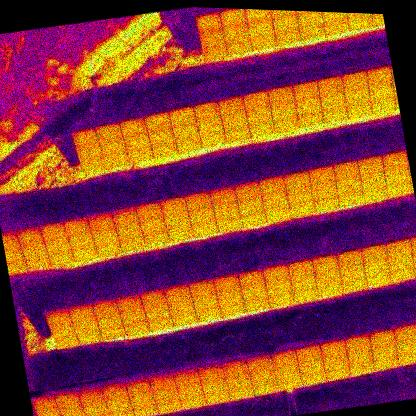Diode: (201, 41, 228, 62)
Hotspot: (160, 196, 188, 217), (249, 118, 276, 139), (316, 280, 344, 300), (150, 139, 178, 159), (336, 248, 363, 268), (321, 103, 348, 123), (216, 287, 244, 306), (362, 256, 390, 275), (370, 95, 398, 114), (88, 211, 114, 231), (365, 270, 392, 289), (338, 262, 365, 281), (237, 195, 264, 214), (199, 129, 226, 148), (345, 99, 372, 118), (319, 89, 346, 108), (348, 359, 376, 377), (144, 301, 170, 320), (144, 228, 170, 247), (92, 225, 118, 244), (148, 126, 174, 145), (26, 254, 51, 273), (172, 309, 198, 327), (244, 294, 270, 312), (80, 155, 106, 173), (176, 134, 202, 152), (124, 317, 148, 336), (196, 304, 221, 322), (201, 375, 226, 393), (296, 11, 323, 26)
Normal: (242, 90, 270, 111), (246, 15, 274, 36), (135, 200, 162, 221), (308, 165, 335, 186), (272, 113, 299, 134), (297, 108, 324, 129), (194, 101, 221, 122), (267, 85, 294, 106), (250, 30, 277, 51), (222, 20, 249, 41), (271, 10, 298, 31), (372, 352, 399, 373), (340, 274, 368, 294), (388, 264, 416, 284), (262, 262, 290, 282), (360, 242, 388, 262), (209, 185, 237, 205), (122, 130, 150, 150), (294, 94, 322, 114), (342, 84, 370, 104), (316, 75, 344, 95), (298, 21, 326, 41), (112, 205, 138, 226), (268, 288, 295, 308), (291, 284, 318, 304), (213, 272, 240, 292), (237, 267, 264, 287), (385, 237, 412, 257), (234, 180, 261, 200), (228, 382, 255, 402), (71, 128, 98, 148), (367, 80, 394, 100), (251, 377, 278, 397), (292, 80, 319, 100), (341, 70, 368, 90), (366, 66, 393, 86), (225, 36, 252, 56), (274, 26, 301, 46), (195, 12, 222, 32), (345, 332, 372, 352), (336, 188, 364, 207), (212, 200, 240, 219), (332, 161, 360, 180), (221, 111, 249, 130), (144, 112, 172, 131), (168, 107, 196, 126), (248, 365, 276, 384), (346, 346, 374, 365), (221, 356, 249, 375), (270, 349, 298, 368), (368, 328, 396, 347), (17, 226, 42, 247), (92, 297, 118, 317), (116, 292, 142, 312), (164, 282, 190, 302), (48, 247, 74, 267), (167, 222, 193, 242), (96, 122, 122, 142), (324, 16, 350, 36), (198, 26, 224, 46), (174, 367, 200, 387), (265, 276, 292, 295), (314, 266, 341, 285), (287, 258, 314, 277), (191, 218, 218, 237), (185, 192, 212, 211), (259, 176, 286, 195), (224, 124, 251, 143), (172, 120, 199, 139), (246, 105, 273, 124), (270, 99, 297, 118), (119, 117, 146, 136), (218, 97, 245, 116), (149, 372, 176, 391), (371, 341, 398, 360), (295, 343, 322, 362), (320, 338, 347, 357), (386, 252, 414, 270), (288, 199, 316, 217), (310, 180, 338, 198), (224, 370, 252, 388), (246, 353, 274, 371), (77, 327, 102, 347), (72, 243, 97, 263), (72, 315, 98, 334), (140, 288, 166, 307), (190, 278, 216, 297), (312, 253, 338, 272), (96, 239, 122, 258), (264, 204, 290, 223), (116, 220, 142, 239), (188, 204, 214, 223), (40, 221, 66, 240), (262, 190, 288, 209), (64, 215, 90, 234), (286, 185, 312, 204), (360, 170, 386, 189), (284, 171, 310, 190), (358, 157, 384, 176), (156, 396, 182, 415), (128, 144, 154, 163), (76, 142, 102, 161), (100, 136, 126, 155), (276, 373, 302, 392), (81, 396, 107, 415), (176, 380, 202, 399), (198, 362, 224, 381), (216, 214, 243, 232), (335, 175, 362, 193), (197, 116, 224, 134), (324, 364, 351, 382), (346, 13, 373, 31), (219, 8, 246, 26), (77, 385, 104, 403), (322, 351, 349, 369), (219, 300, 247, 317), (312, 195, 340, 212), (119, 305, 144, 324), (119, 232, 144, 251), (44, 236, 69, 255), (68, 229, 93, 248), (384, 165, 409, 184), (382, 151, 407, 170), (54, 388, 79, 407), (168, 296, 194, 314), (192, 293, 218, 311), (241, 281, 267, 299), (68, 302, 94, 320), (140, 216, 166, 234), (362, 184, 388, 202), (180, 393, 206, 411), (204, 389, 230, 407), (104, 150, 130, 168), (300, 369, 326, 387), (105, 393, 131, 411), (274, 361, 300, 379), (298, 357, 324, 375), (289, 272, 316, 289), (239, 209, 266, 226), (54, 331, 78, 350), (50, 319, 74, 338), (97, 310, 121, 329), (46, 307, 70, 326), (22, 241, 46, 260), (126, 377, 150, 396), (101, 323, 126, 341), (102, 381, 127, 399), (147, 314, 173, 331), (164, 211, 190, 228), (386, 179, 412, 196), (152, 385, 178, 402), (32, 393, 55, 412), (130, 388, 154, 406), (132, 400, 158, 416), (393, 323, 416, 341), (395, 336, 416, 354), (244, 9, 271, 22), (59, 402, 84, 416), (397, 348, 416, 366), (108, 405, 135, 416), (320, 12, 347, 22), (36, 405, 60, 416), (85, 408, 111, 416), (268, 10, 295, 15), (63, 414, 87, 416)
